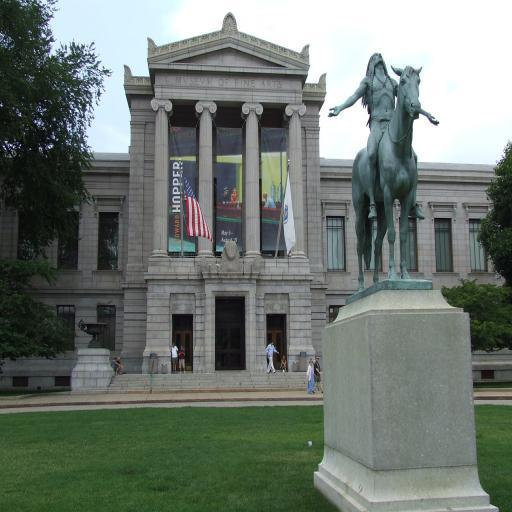horse: (350, 64, 422, 294)
